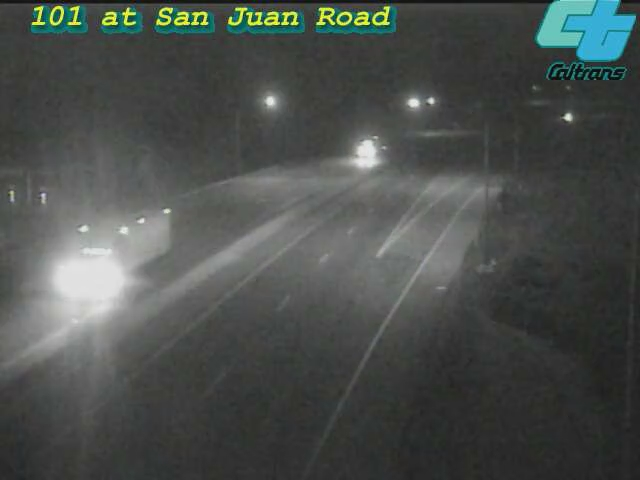vehicle: (72, 211, 152, 291), (331, 110, 411, 190), (544, 92, 594, 142)
